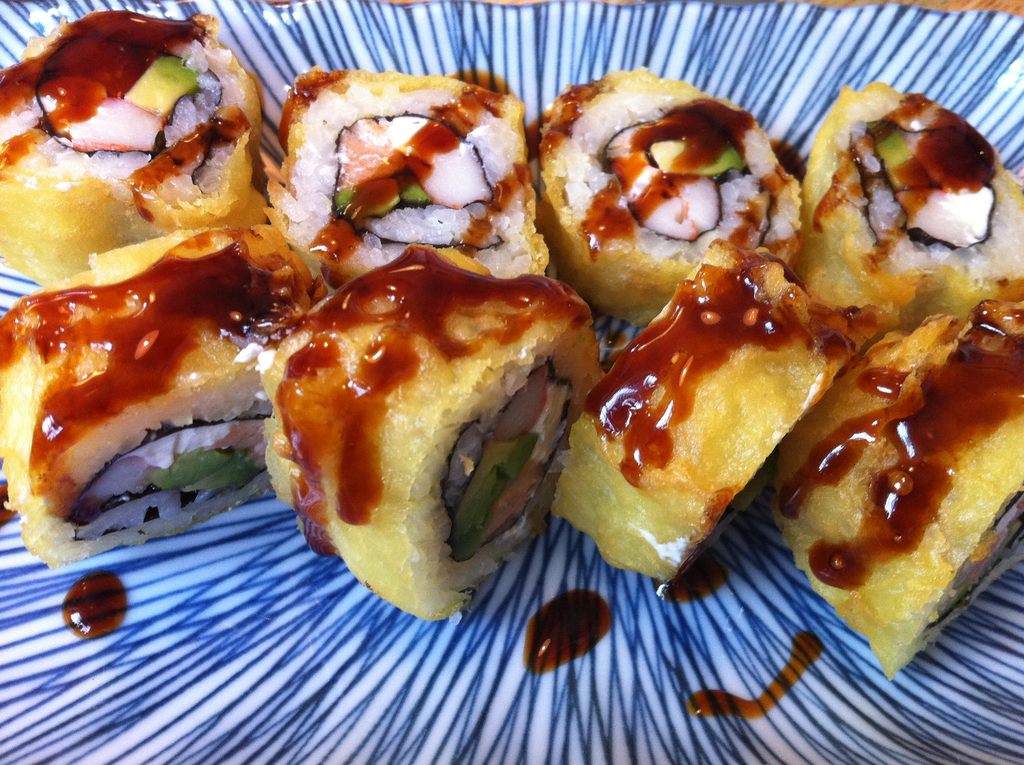sushi: (0, 11, 1023, 679), (21, 269, 272, 572)
